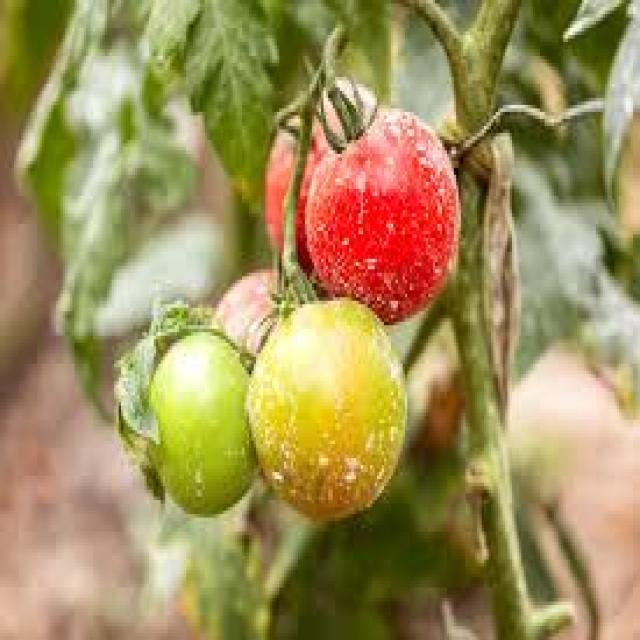biodegradable: (305, 81, 456, 319), (247, 294, 405, 518), (140, 318, 256, 518), (263, 80, 375, 273), (210, 259, 294, 350)
